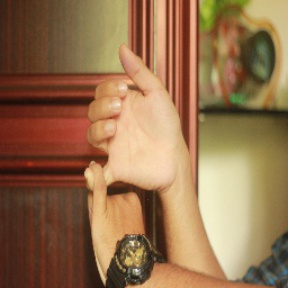S: (81, 39, 188, 287)
